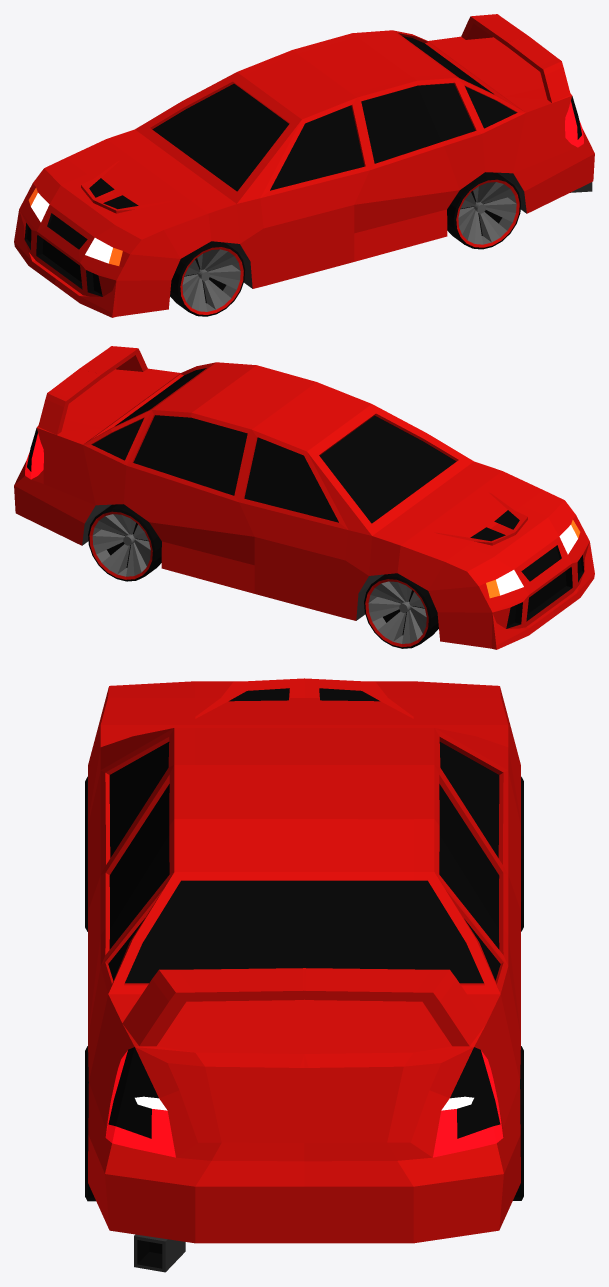
File: EVO_2.glb
3 renders of one model, top to bottom at view 1: azimuth 30°, elevation 25°; view 2: azimuth 150°, elevation 25°; view 3: azimuth 270°, elevation 25°, orthographic. The views are drawn at different scales.
Parts seen in each view (by area): view 1: EVO_2, BL_Wheel, FL_Wheel; view 2: EVO_2, BR_Wheel, FR_Wheel; view 3: EVO_2, Exaust.
Boxes of the visible parts, x1,y1,x2,y2 form: EVO_2: (14, 14, 594, 317); BL_Wheel: (447, 172, 520, 249); FL_Wheel: (170, 241, 245, 316); EVO_2: (14, 346, 594, 649); BR_Wheel: (88, 504, 161, 581); FR_Wheel: (364, 573, 438, 648); EVO_2: (88, 678, 520, 1243); Exaust: (134, 1234, 185, 1272).
Bounding box in the file's own units: 5.39 × 1.67 × 2.03.
